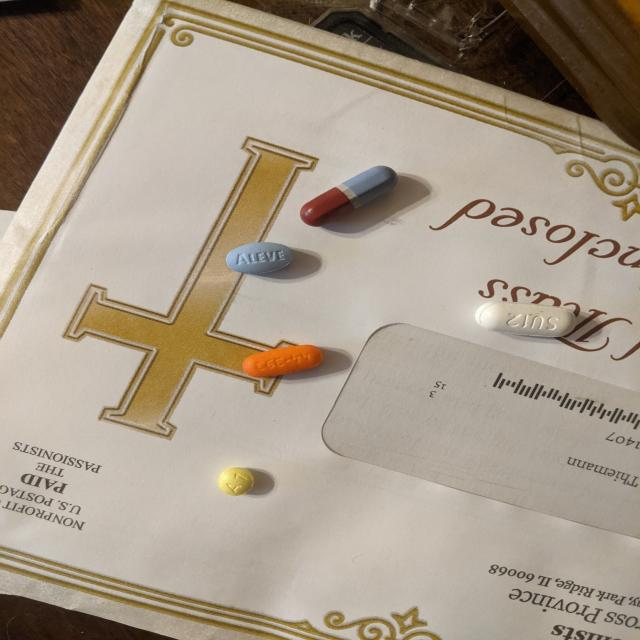non-organic waste: (299, 165, 400, 228), (473, 300, 579, 338), (242, 344, 324, 379), (225, 241, 294, 276), (216, 466, 255, 497)
